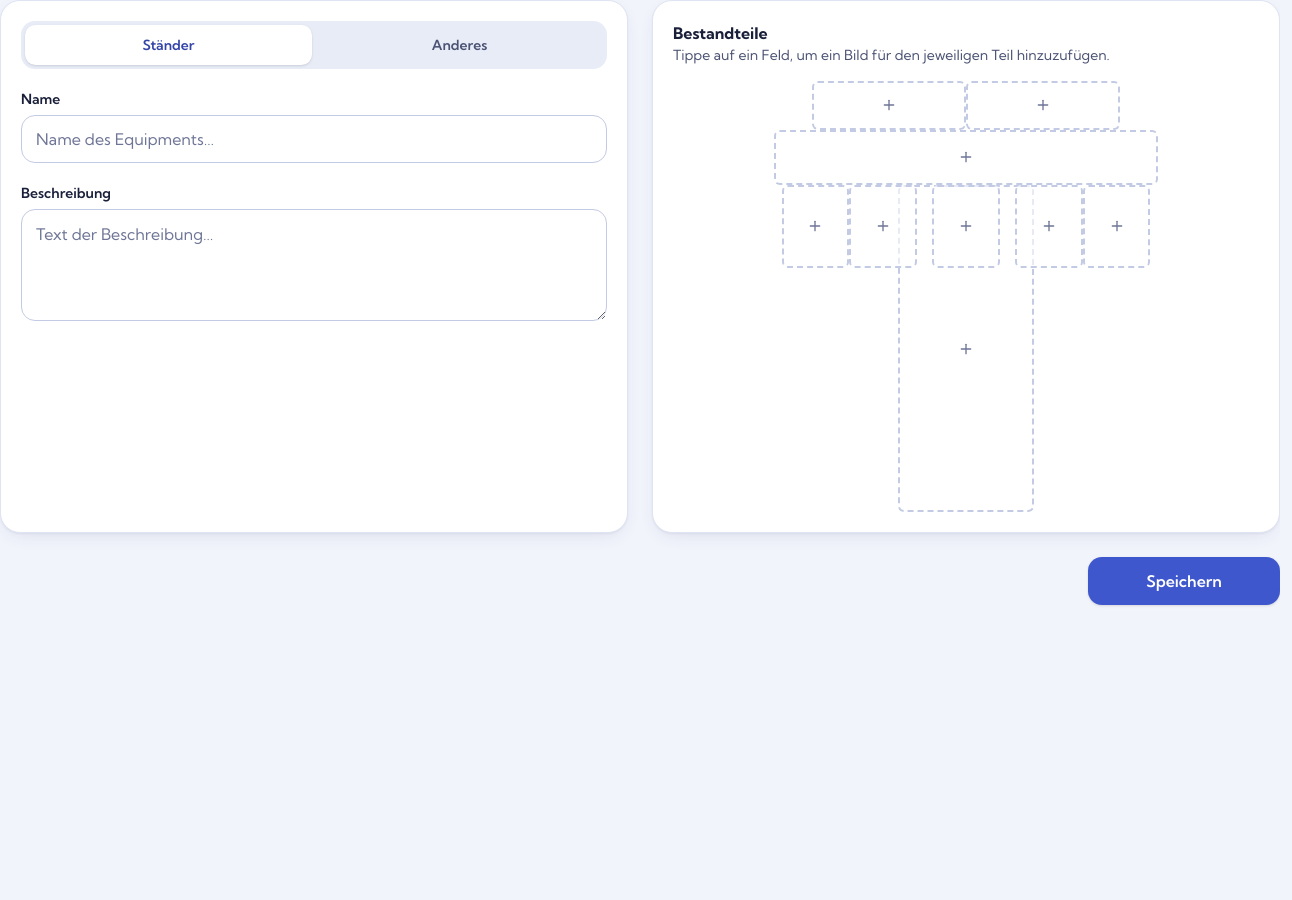
EquipmentForm (create) › switches between the stand drawing and the single photo
Click the tab "Anderes". click: (460, 45)
box: top-left (316, 25), bottom-right (603, 65)
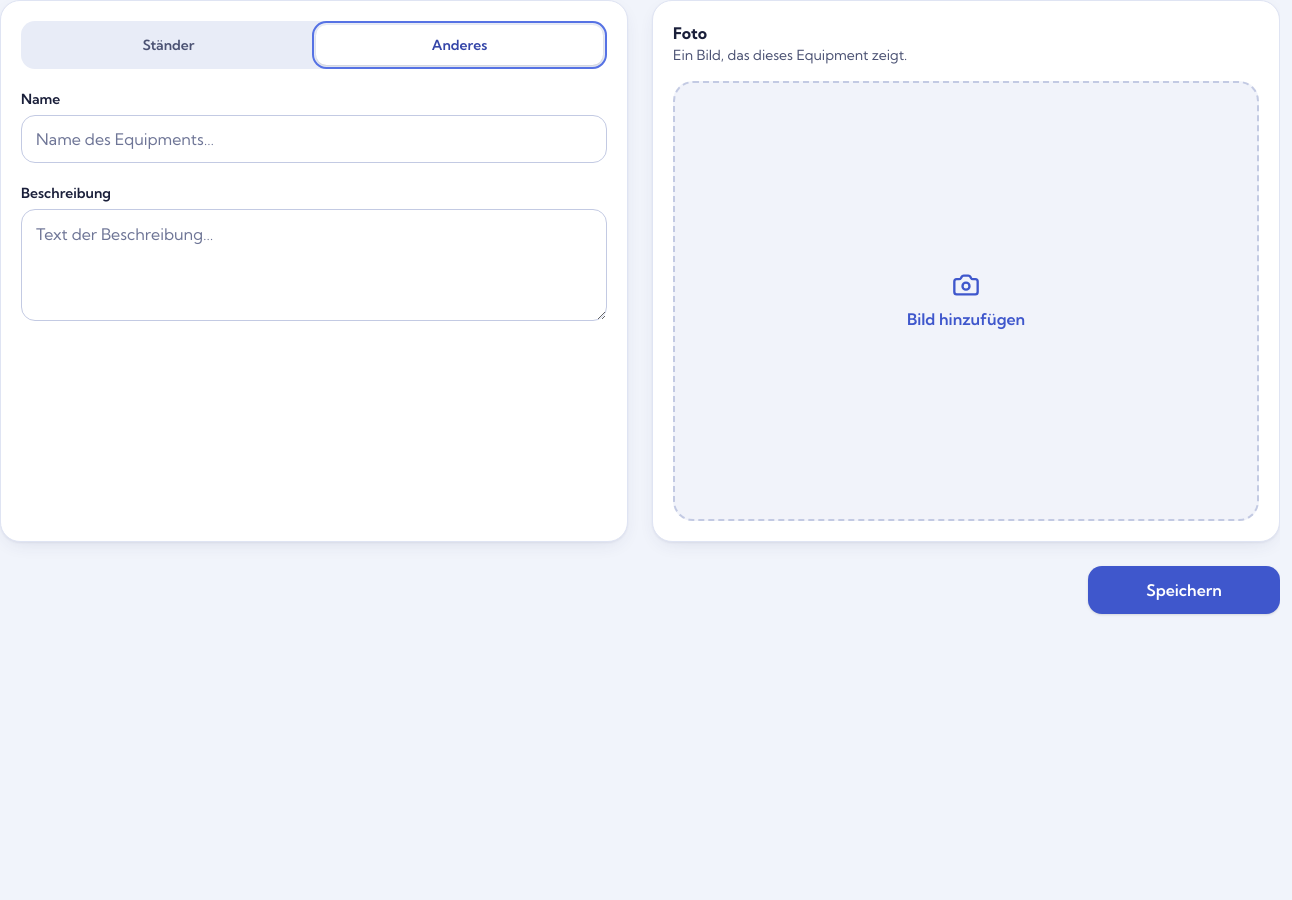
expect the button with aria-label "Foto" is shown: met, box top-left (673, 81), bottom-right (1259, 520)
